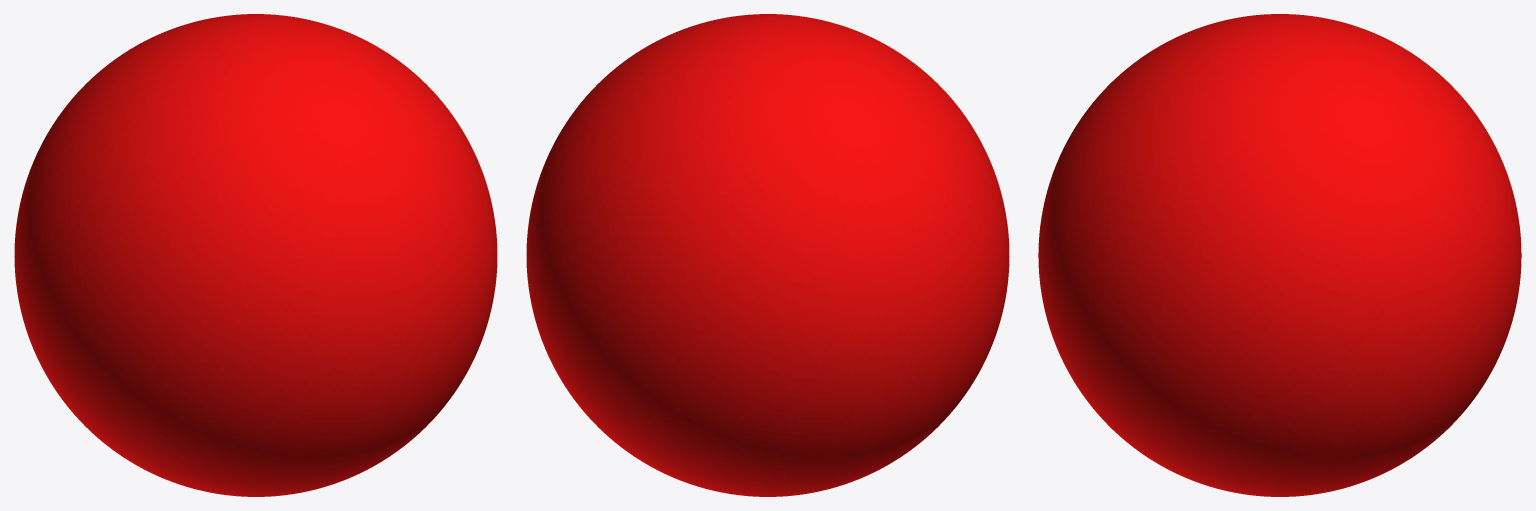
3 views of the same model, side by side, from view 1: azimuth 30°, elevation 25°; view 2: azimuth 150°, elevation 25°; view 3: azimuth 270°, elevation 25° (orthographic).
Visible parts, largest first — view 1: Sphere; view 2: Sphere; view 3: Sphere.
Boxes of the visible parts, left/top/right/bottom form: Sphere: left=14, top=14, right=497, bottom=496; Sphere: left=526, top=14, right=1009, bottom=496; Sphere: left=1038, top=14, right=1521, bottom=496.
Size of the model in its own units: 0.25 by 0.25 by 0.25.
